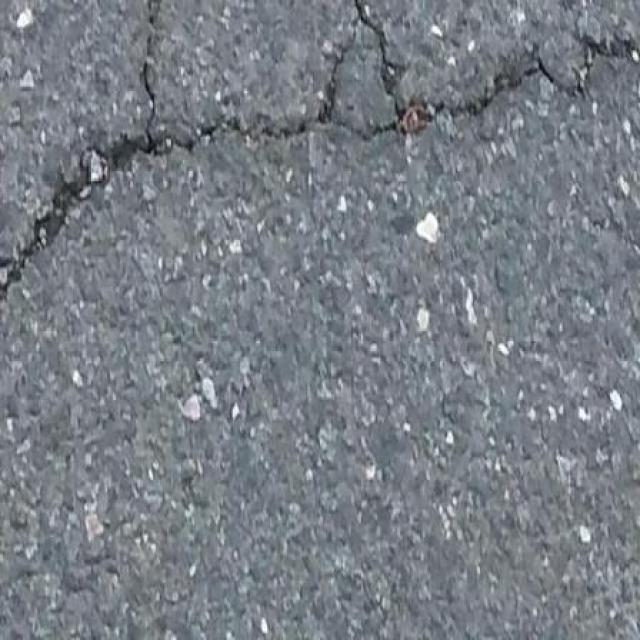Crack: (0, 0, 640, 306)
